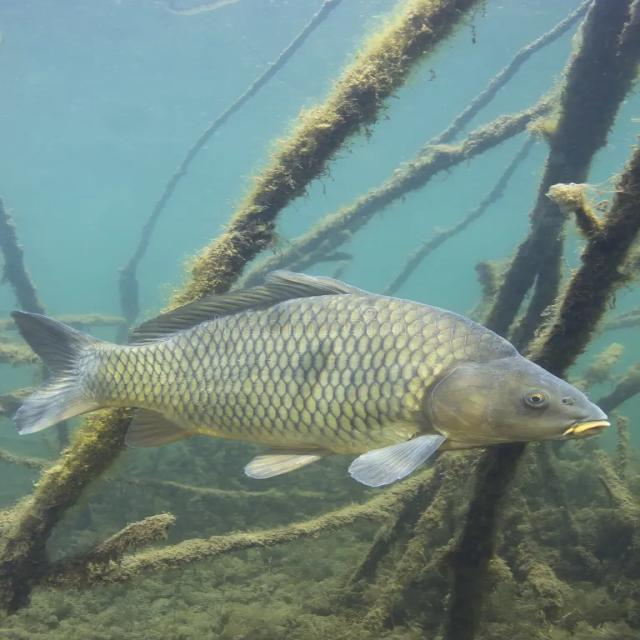Common carp: (13, 270, 607, 487)
